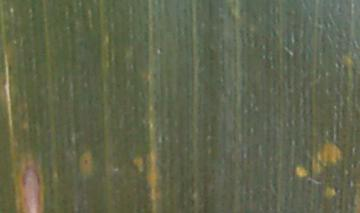tarspot: (150, 70, 159, 80), (81, 158, 90, 166), (306, 178, 312, 185)
